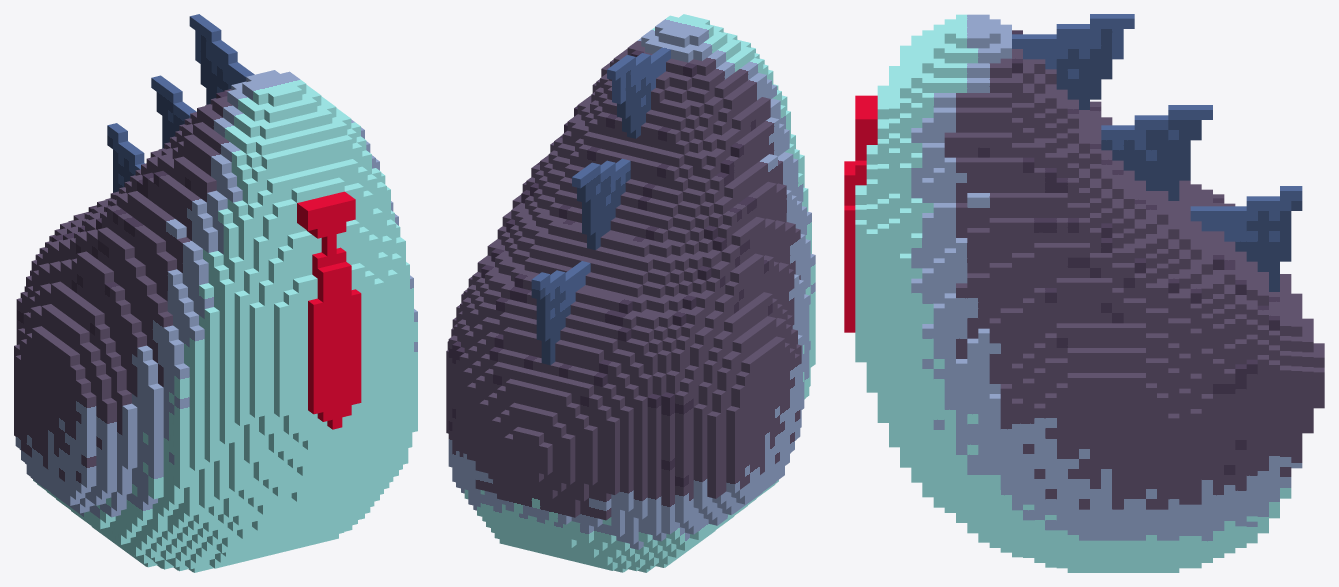
The model's file is red tie.gltf.
The picture shows the model from 3 angles, left to right: view 1: azimuth 30°, elevation 25°; view 2: azimuth 150°, elevation 25°; view 3: azimuth 270°, elevation 25°; orthographic projection. The views are drawn at different scales.
Parts seen in each view (by area): view 1: 04_Body_RedTie-Mesh; view 2: 04_Body_RedTie-Mesh; view 3: 04_Body_RedTie-Mesh.
Boxes of the visible parts, bbox=[...] form: 04_Body_RedTie-Mesh: bbox=[14, 14, 417, 572]; 04_Body_RedTie-Mesh: bbox=[446, 14, 815, 572]; 04_Body_RedTie-Mesh: bbox=[844, 14, 1324, 572].
Size of the model in its own units: 33 by 51 by 43.
Materials: 1 (1 with a texture image).
